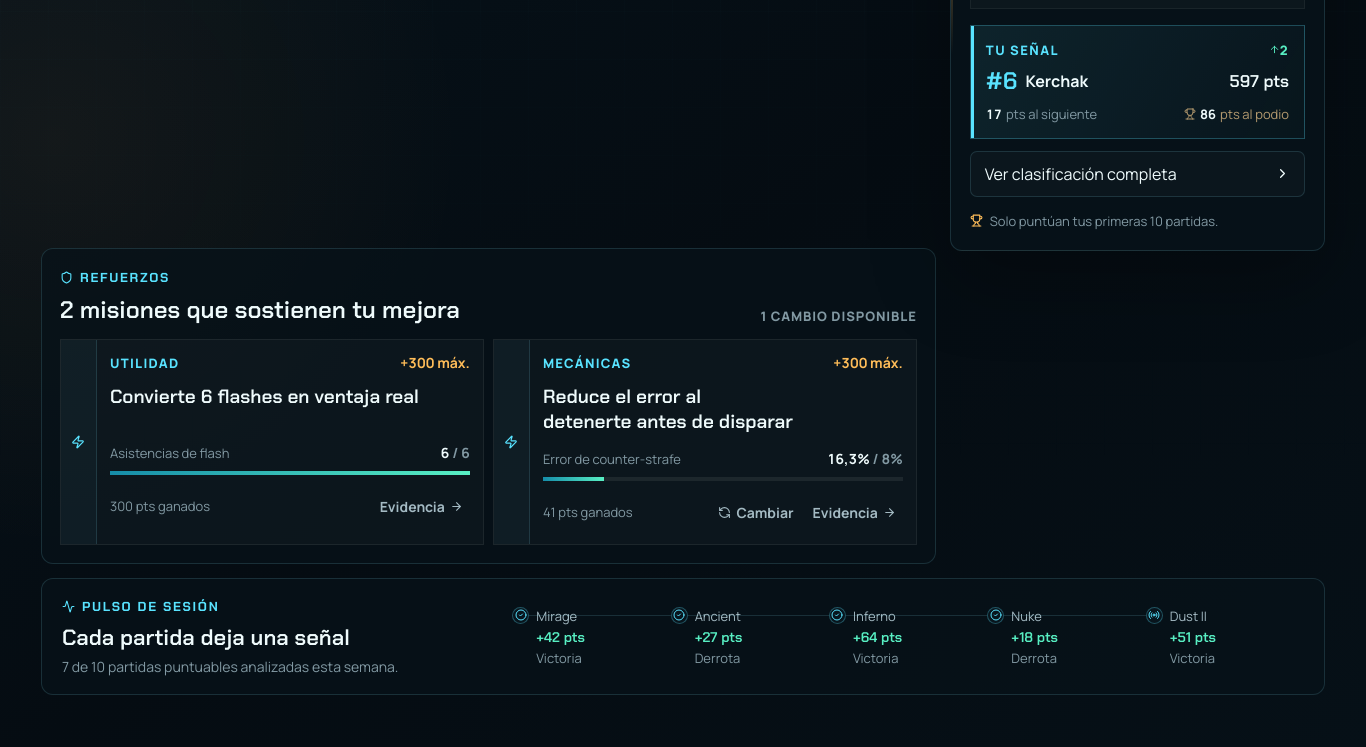
Scenario: OperationProgress › uses the only weekly reroll and keeps the support slot value
The image size is (1366, 747).
(page scrolled)
Step 1. Click the button "Cambiar" → (756, 512), box [711,494,801,532]
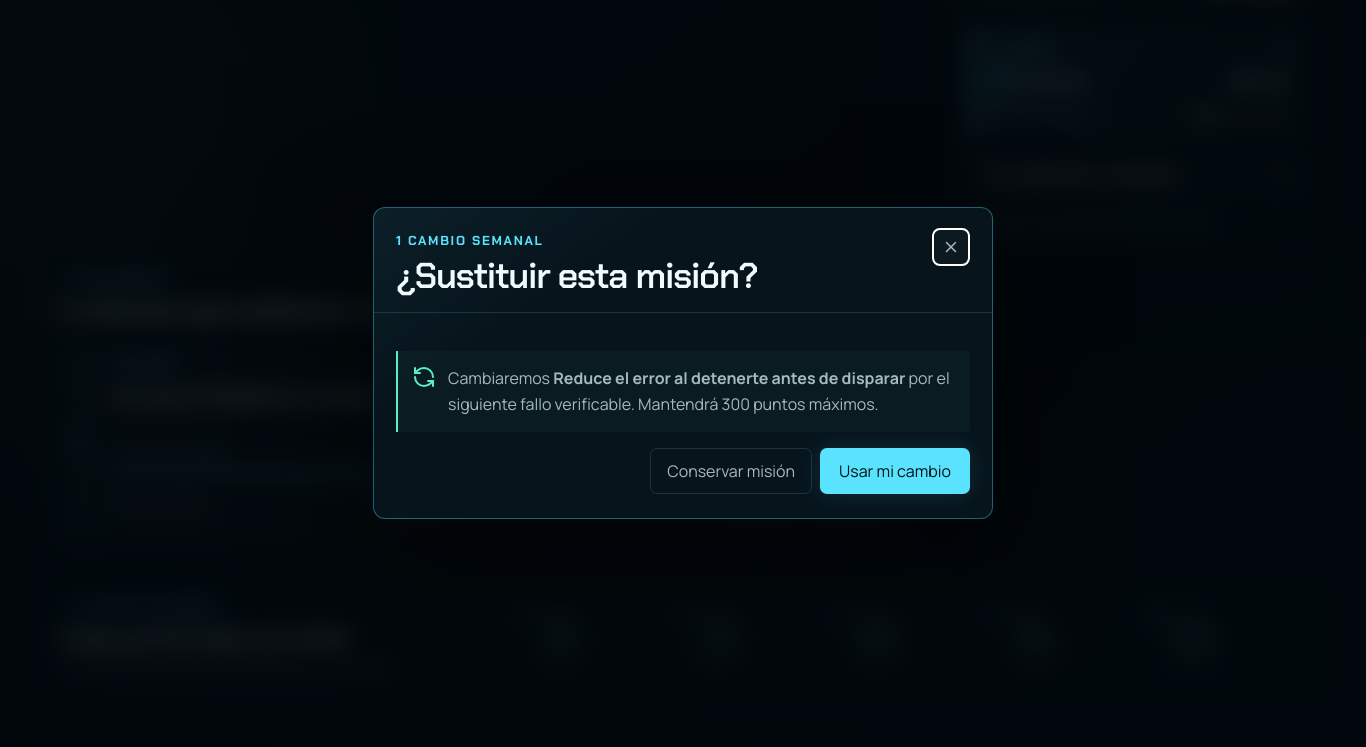
Expected: the dialog named "Confirmar cambio de misión" is shown, [373,207,993,519]
Step 2. Click the button "Usar mi cambio" → (895, 471), box [820,448,970,494]
(page scrolled)
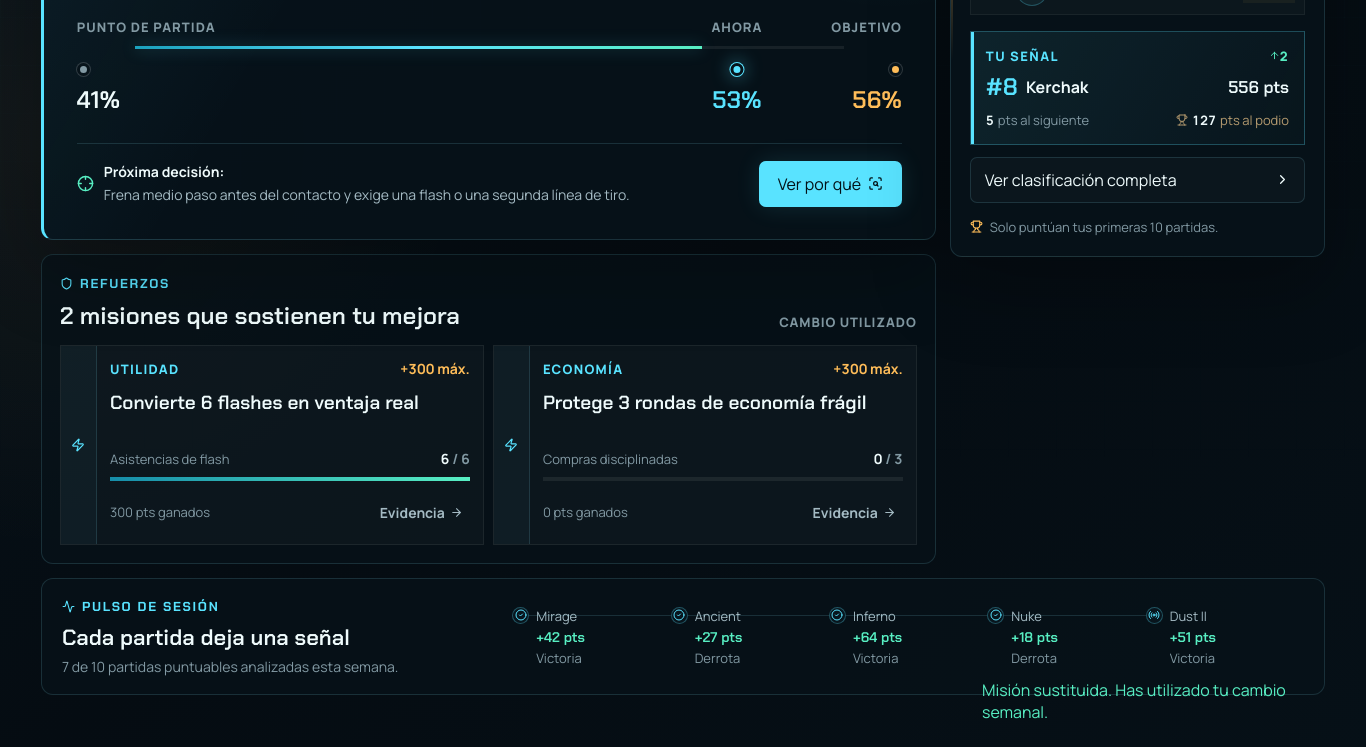
Expected: the heading "Protege 3 rondas de economía frágil" is shown, [543,390,866,415]
Expected: the text "Cambio utilizado" is shown, [779,313,917,331]
Expected: the message shows "Misión sustituida", [982,679,1286,723]
